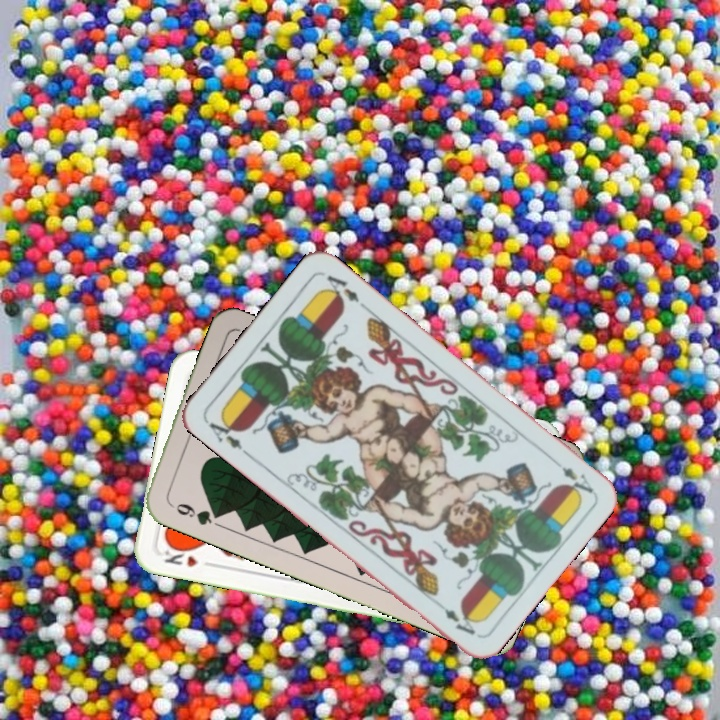EA: (202, 412, 245, 453), (557, 463, 596, 499)
G9: (165, 498, 225, 528)
HK: (160, 540, 216, 570)
